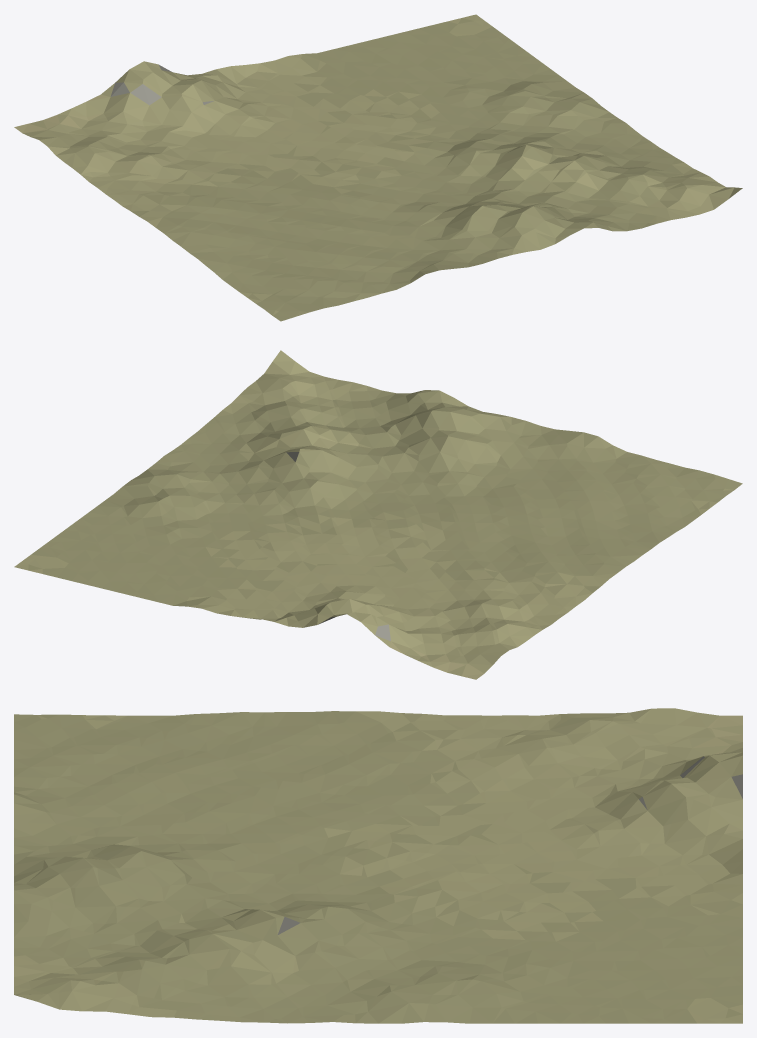
The model's file is Ground_1_-7.glb.
3 renders of one model, top to bottom at view 1: azimuth 30°, elevation 25°; view 2: azimuth 150°, elevation 25°; view 3: azimuth 270°, elevation 25°, orthographic. The views are drawn at different scales.
Visible parts, largest first — view 1: Ground_1_-7; view 2: Ground_1_-7; view 3: Ground_1_-7.
Boxes of the visible parts, x1=… form: Ground_1_-7: x1=14, y1=14, x2=742, y2=321; Ground_1_-7: x1=14, y1=350, x2=742, y2=679; Ground_1_-7: x1=14, y1=708, x2=742, y2=1023.
Size of the model in its own units: 768 by 54.37 by 768.
